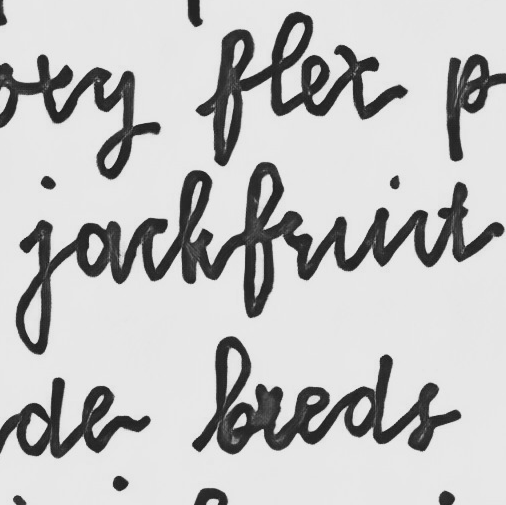a: (73, 219, 125, 284)
c: (136, 215, 169, 285)
f: (241, 159, 287, 320)
i: (403, 202, 432, 272)
j: (14, 173, 60, 356)
k: (176, 167, 215, 286)
r: (276, 208, 316, 281)
t: (436, 179, 484, 263)
u: (331, 206, 392, 274)
